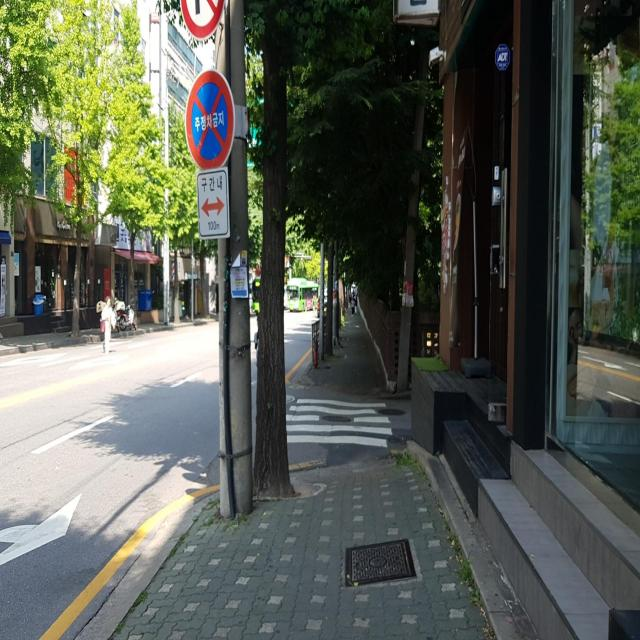횡단보도: (285, 398, 393, 448)
